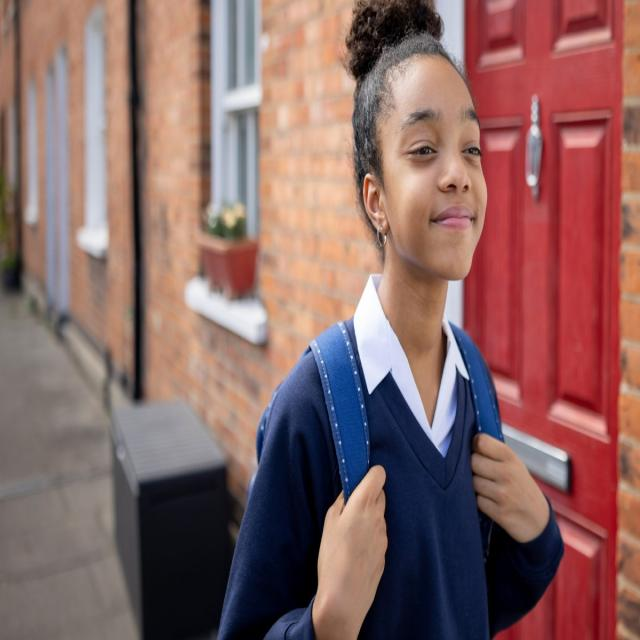child: (218, 2, 568, 640)
